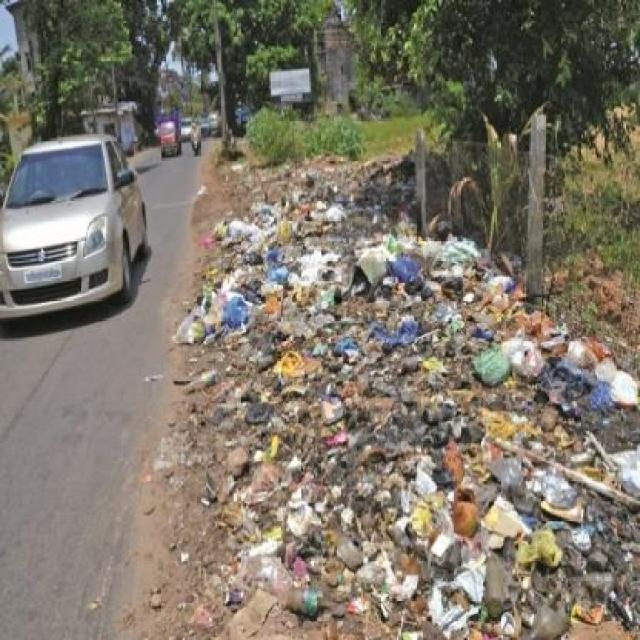garbage: (211, 179, 412, 640), (417, 311, 577, 636), (572, 356, 630, 633), (417, 236, 481, 320)
